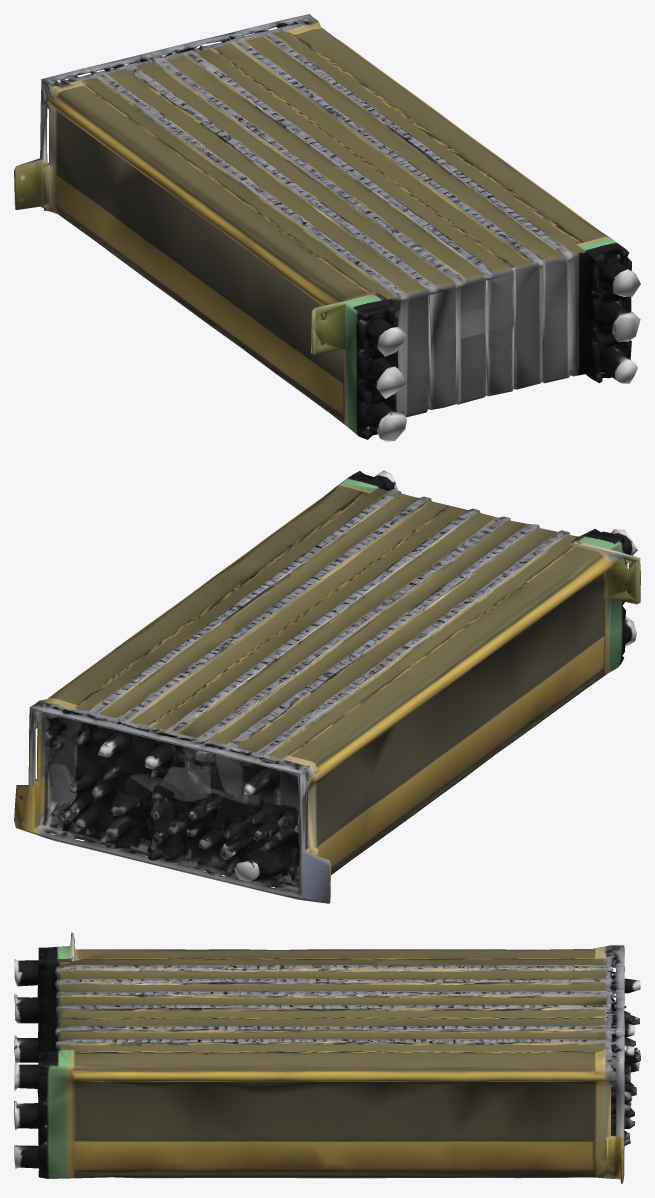
The model's file is sm_ranliaodianchi.fbx.
The picture shows the model from 3 angles, top to bottom: view 1: azimuth 30°, elevation 25°; view 2: azimuth 150°, elevation 25°; view 3: azimuth 270°, elevation 25°; orthographic projection. The views are drawn at different scales.
Parts seen in each view (by area): view 1: mesh_node; view 2: mesh_node; view 3: mesh_node.
Boxes of the visible parts, bbox=[...] form: mesh_node: bbox=[14, 14, 640, 441]; mesh_node: bbox=[14, 470, 640, 903]; mesh_node: bbox=[14, 932, 640, 1183].
Size of the model in its own units: 1.05 by 0.4091 by 1.98.
